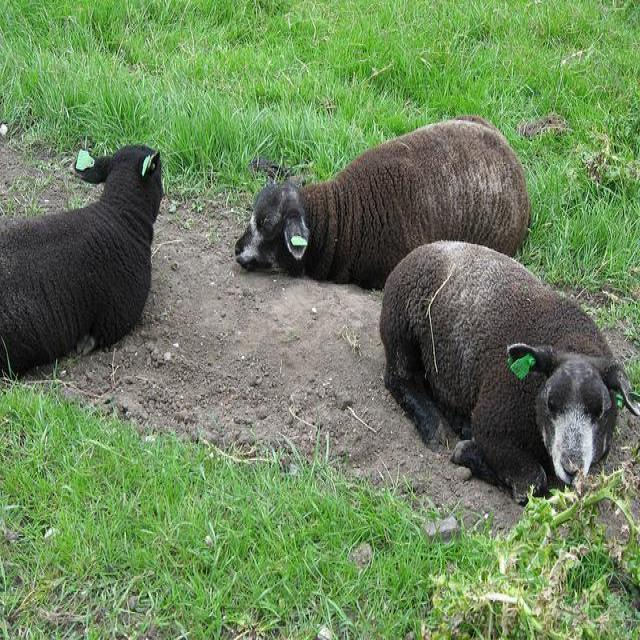Sheep: (379, 240, 639, 504), (235, 112, 531, 296), (0, 145, 165, 380)
